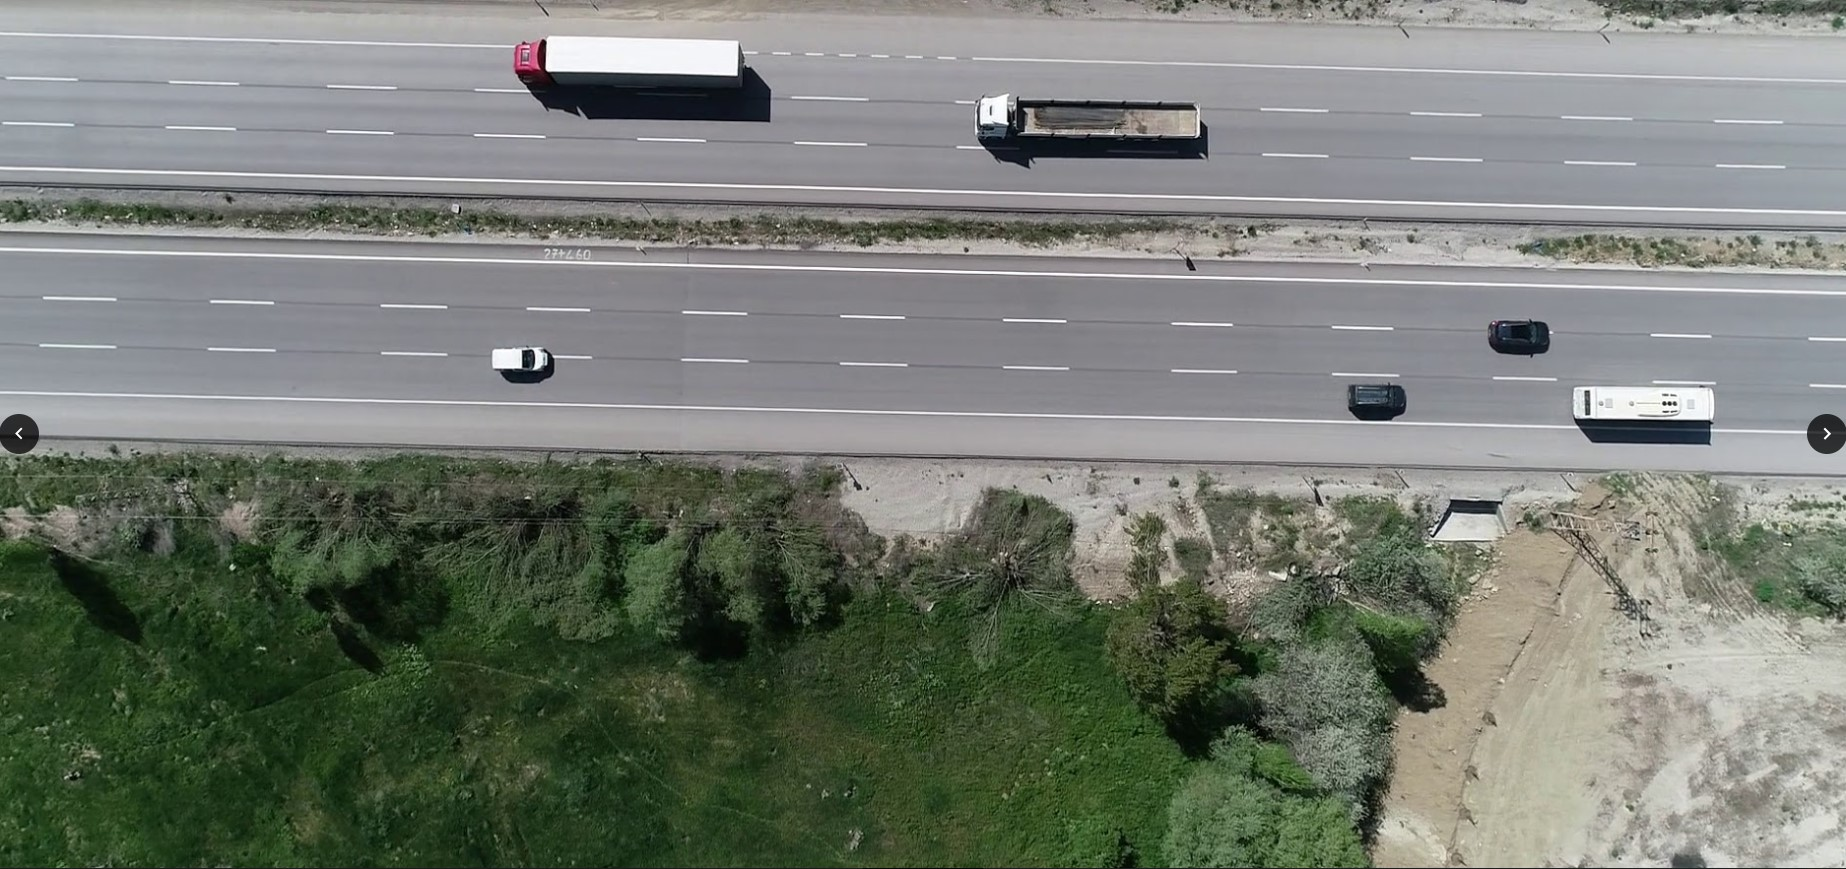araba: (1488, 319, 1550, 353), (492, 346, 553, 377), (1350, 383, 1408, 414)
kamyon: (512, 35, 749, 92), (972, 92, 1204, 142)
otobus: (1574, 387, 1719, 424)
